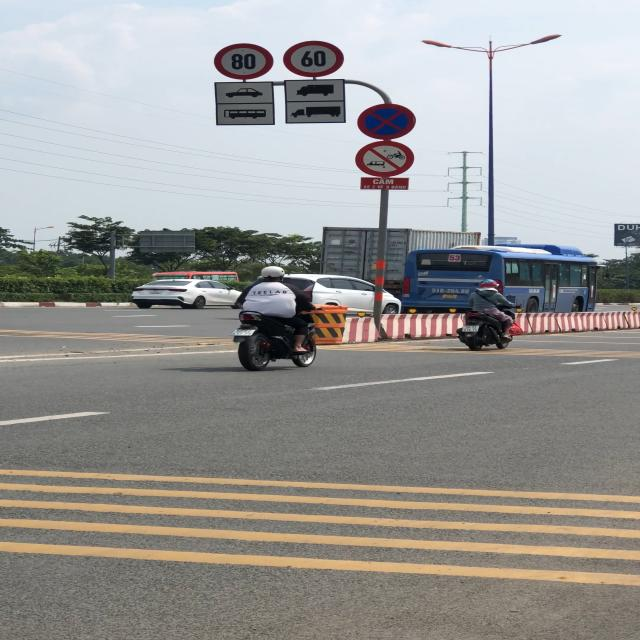Bien bao cam dung xe va do xe: (351, 100, 420, 140)
Bien bao toc do toi da cho phep: (212, 42, 276, 80), (282, 41, 346, 78)
